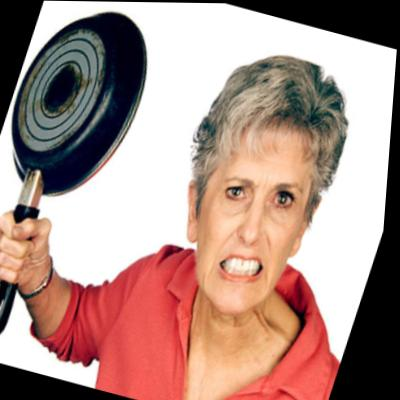angry: (150, 66, 350, 325)
